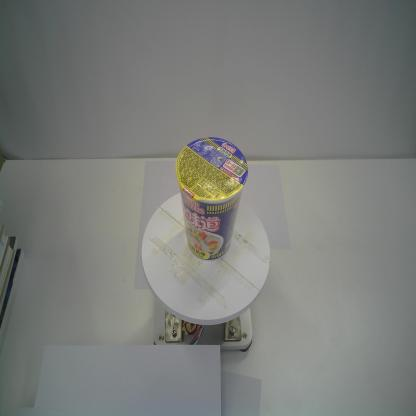Instant Noodles: (174, 134, 250, 262)
